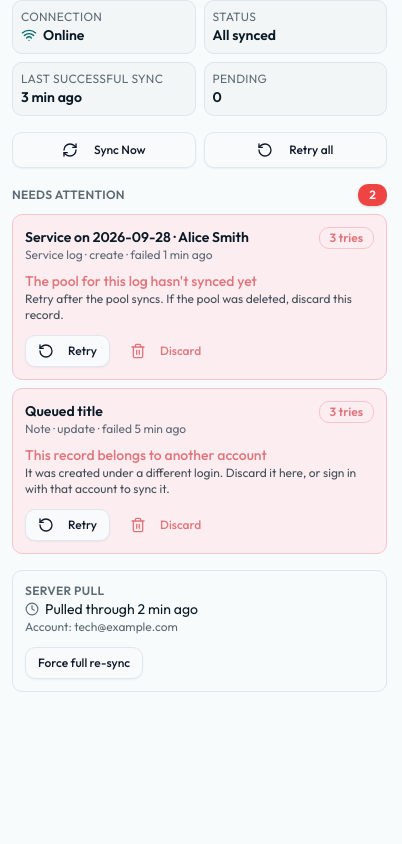
Test: SyncHealthPanel › retries everything with the Retry all button
The image size is (402, 844).
Click the button "Retry all". click: (295, 150)
box: [204,132,387,168]
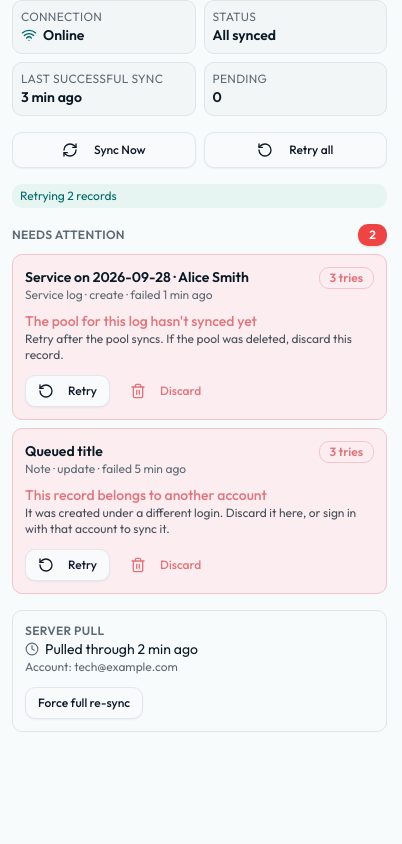
Now the text "Retrying 2 records" is shown, box [12,184,387,208]
